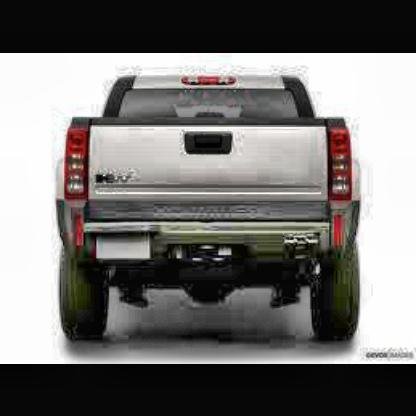HUMMER H2 SUT Crew Cab 2009: (55, 73, 364, 360)
